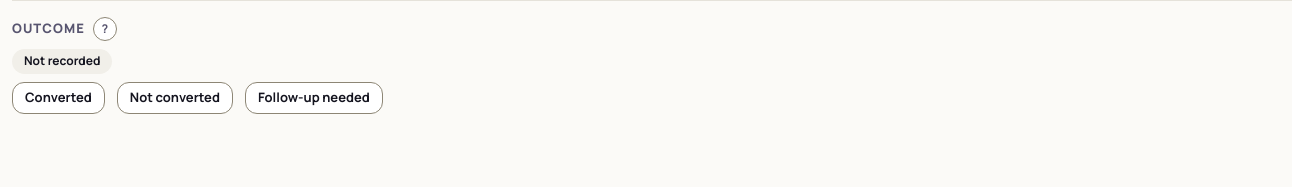
Test: recording an outcome › shows an error, and keeps the prior value, when the write fails
Click the button "Converted". click: click(58, 98)
box: [12,82,105,114]
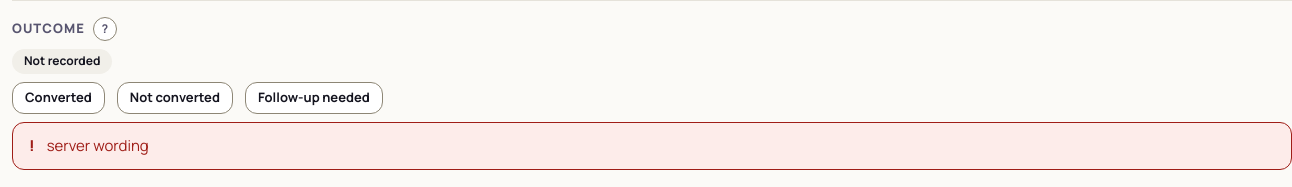
Check: the text "Not recorded" is shown, box [12,49,112,74]
Check: the message "! server wording" is shown, box [12,122,1291,170]
